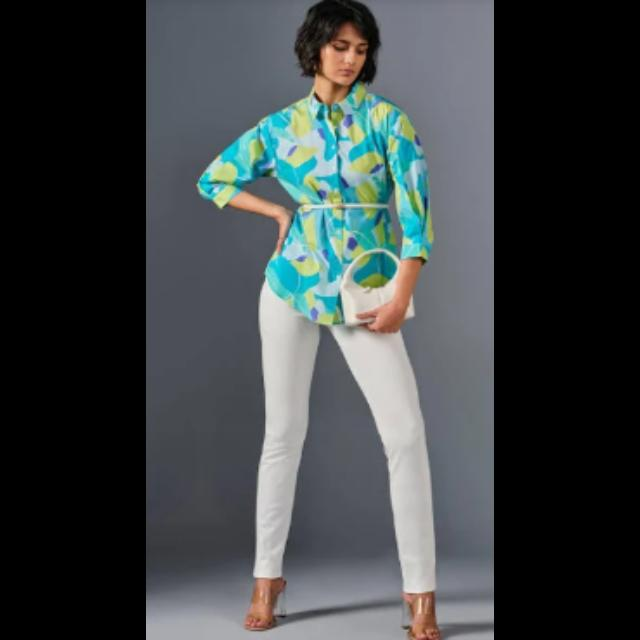bottom: (259, 313, 431, 595)
handbag: (338, 283, 416, 327)
top: (259, 100, 429, 296)
